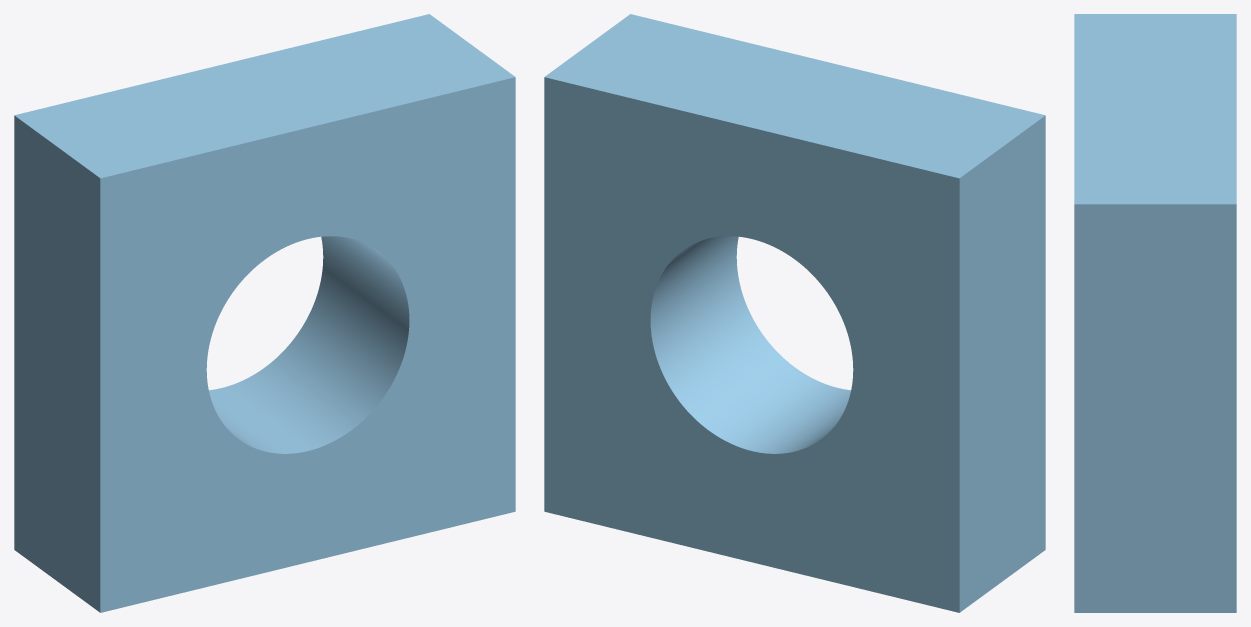
Rendered from factory_round_hole_12mm_subdiv_3x.obj.
The picture shows the model from 3 angles, left to right: view 1: azimuth 30°, elevation 25°; view 2: azimuth 150°, elevation 25°; view 3: azimuth 270°, elevation 25°; orthographic projection. The views are drawn at different scales.
Visible parts, largest first — view 1: mesh1, mesh5, mesh4, mesh0; view 2: mesh2, mesh5, mesh4, mesh0; view 3: mesh3, mesh4.
Boxes of the visible parts, x1=… form: mesh1: x1=100, y1=77, x2=515, y2=612; mesh5: x1=14, y1=115, x2=100, y2=612; mesh4: x1=15, y1=14, x2=515, y2=178; mesh0: x1=209, y1=236, x2=409, y2=453; mesh2: x1=544, y1=77, x2=959, y2=612; mesh5: x1=959, y1=115, x2=1045, y2=612; mesh4: x1=544, y1=14, x2=1044, y2=178; mesh0: x1=650, y1=236, x2=850, y2=453; mesh3: x1=1074, y1=204, x2=1236, y2=612; mesh4: x1=1074, y1=14, x2=1236, y2=204.
Size of the model in its own units: 0.025 by 0.025 by 0.00899.
